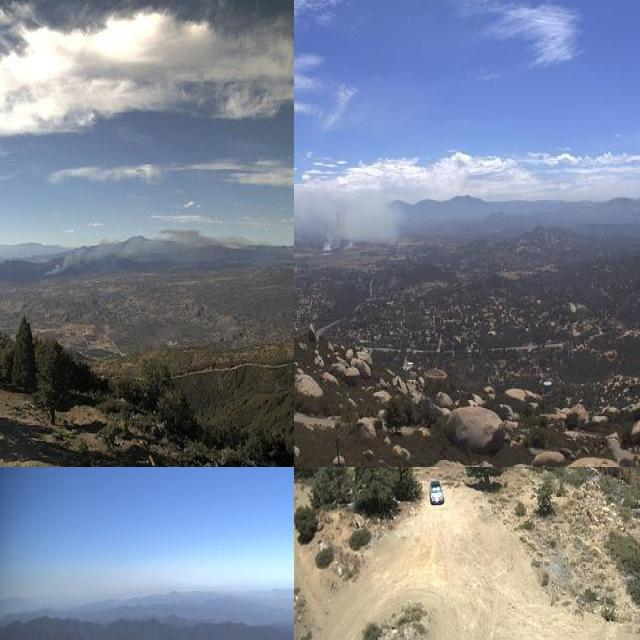smoke: (37, 216, 229, 282), (294, 162, 404, 257)
